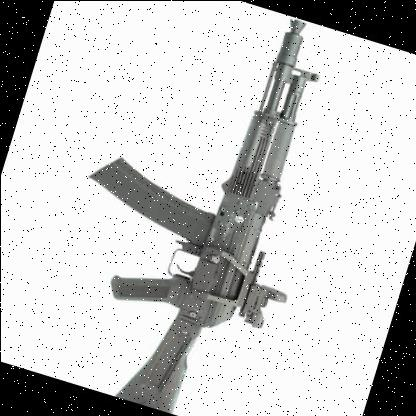rifle: (45, 0, 387, 416)
